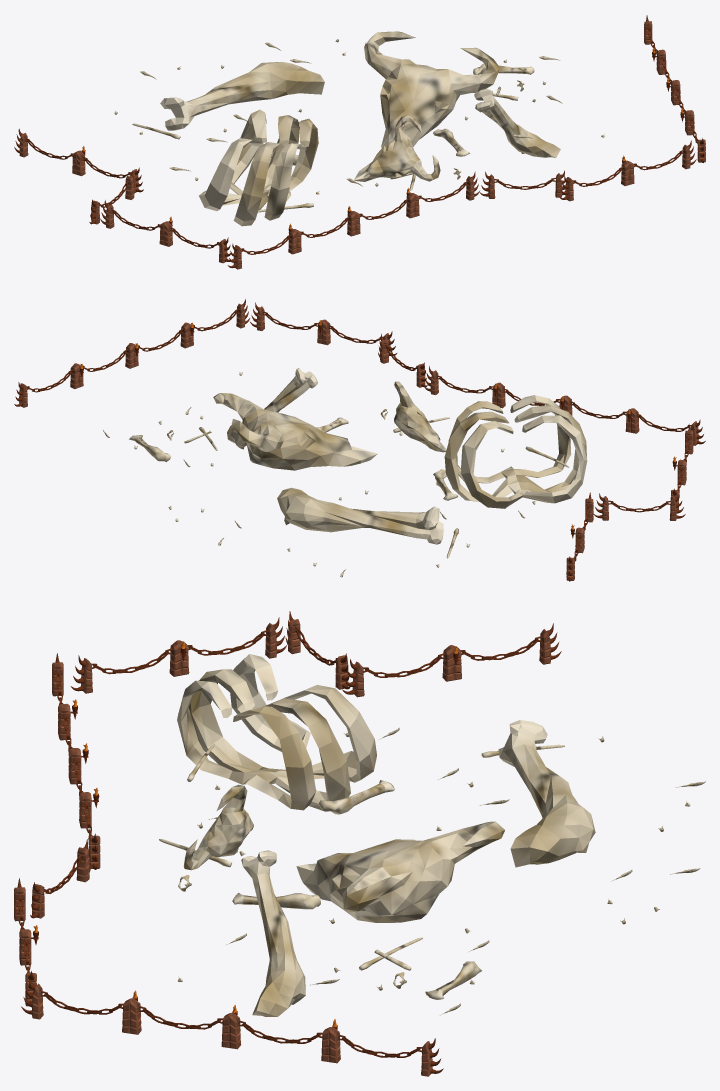
The model's file is LV3Noclip.fbx.
3 renders of one model, top to bottom at view 1: azimuth 30°, elevation 25°; view 2: azimuth 150°, elevation 25°; view 3: azimuth 270°, elevation 25°, orthographic. The views are drawn at different scales.
Parts seen in each view (by area): view 1: polySurface158; view 2: polySurface158; view 3: polySurface158.
Boxes of the visible parts, x1,y1,x2,y2 form: polySurface158: (14,15,705,269); polySurface158: (14,299,705,581); polySurface158: (14,611,705,1076).
Size of the model in its own units: 358 by 54.06 by 242.
